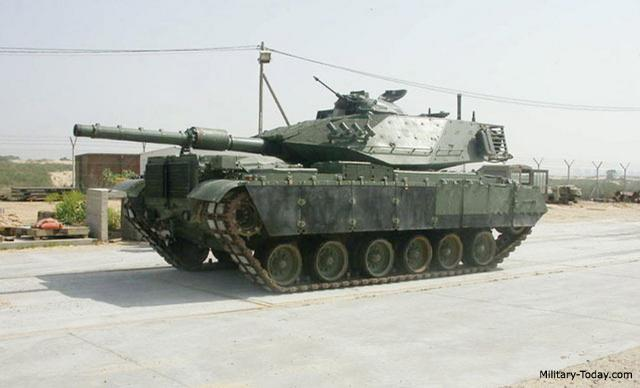tank: (134, 92, 544, 274)
